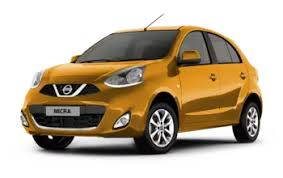Nissan: (24, 31, 256, 150)
